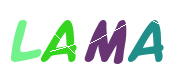A: (42, 0, 122, 80), (67, 0, 147, 80)
L: (21, 0, 101, 80)
M: (55, 0, 135, 80)
